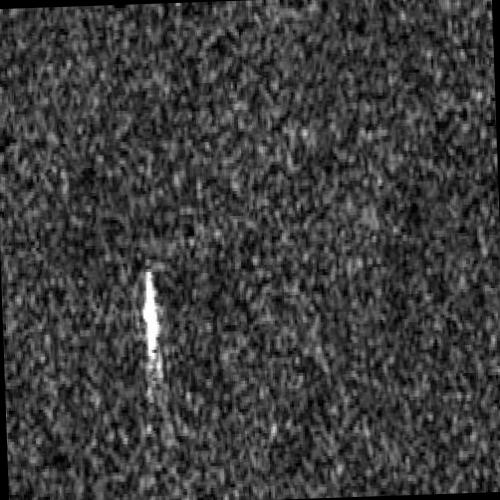ship: (142, 268, 158, 357)
